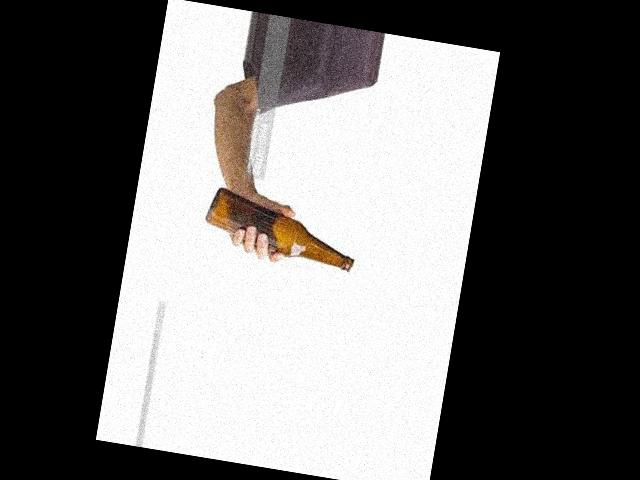beer: (201, 184, 361, 272)
